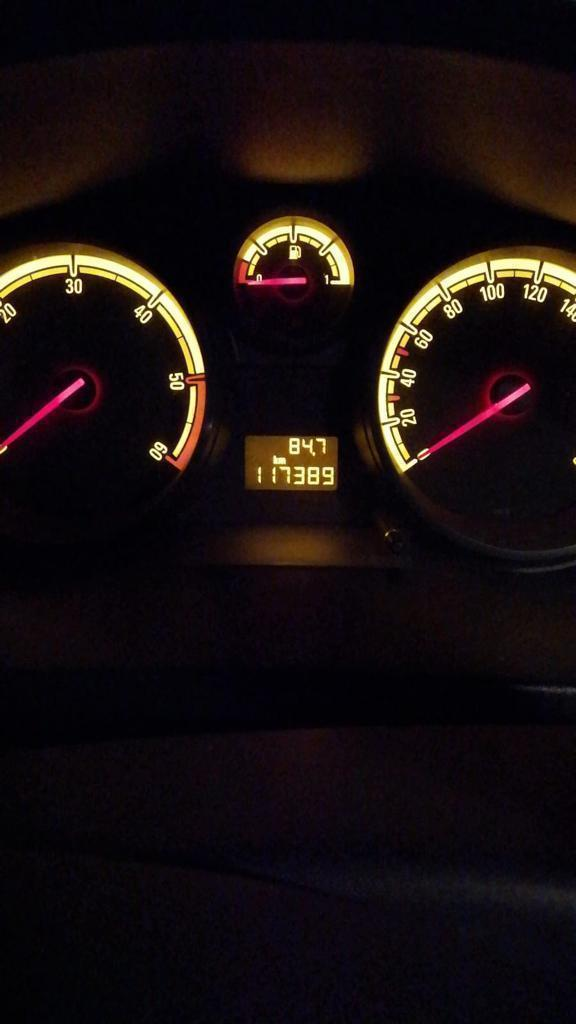,: (311, 451, 315, 456)
1: (256, 465, 261, 484), (271, 466, 276, 484)
3: (292, 466, 305, 484)
4: (301, 438, 313, 453)
7: (278, 466, 291, 484), (315, 437, 327, 455)
8: (307, 466, 319, 485), (288, 437, 300, 455)
X: (278, 457, 287, 464), (273, 454, 278, 464)
odometer: (243, 434, 340, 493)
